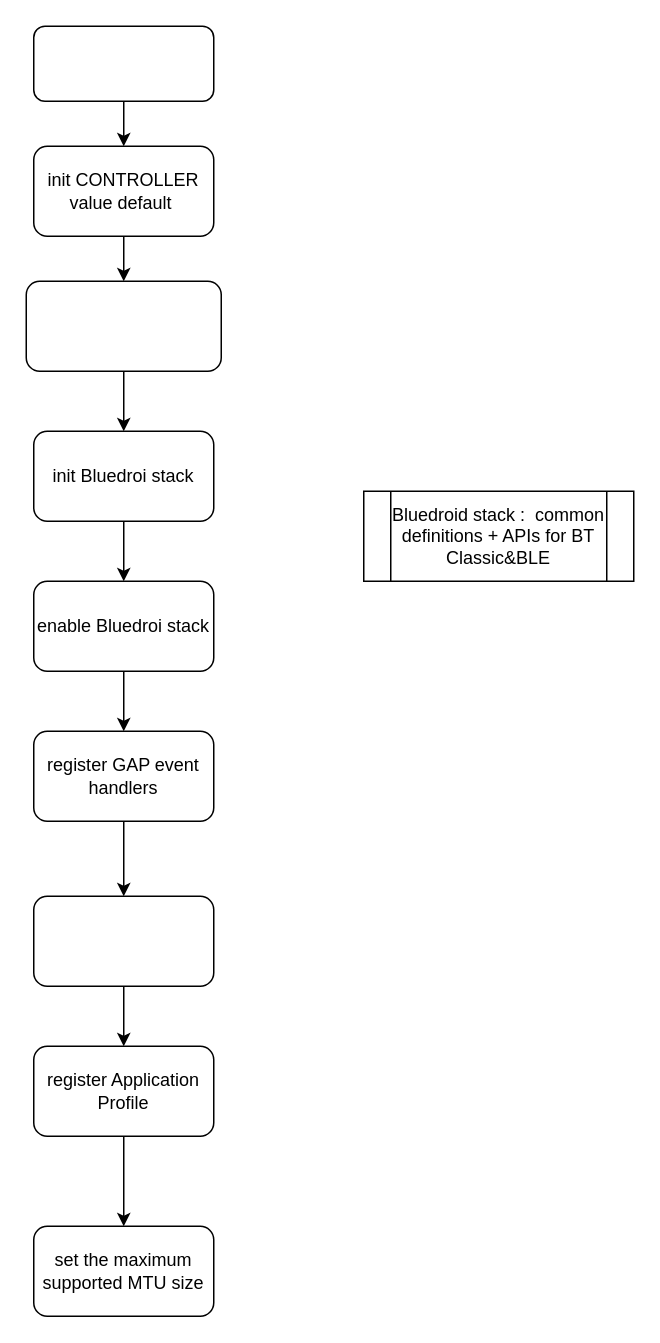
The diagram is 660 pixels wide and 1343 high, and some of its shapes have lost their labels. The box of each missing label's shape, as (x1, y1, x2, y2) in pixels:
enable CONTROLLER in BLE mode: (25, 280, 221, 371)
init NVS: (32, 25, 214, 101)
register GATT event handlers: (32, 895, 214, 986)
